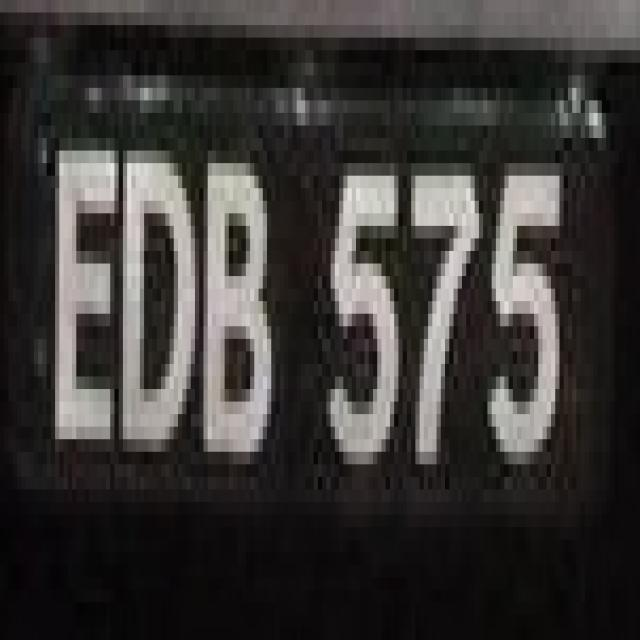licenseplate: (6, 19, 640, 634)
